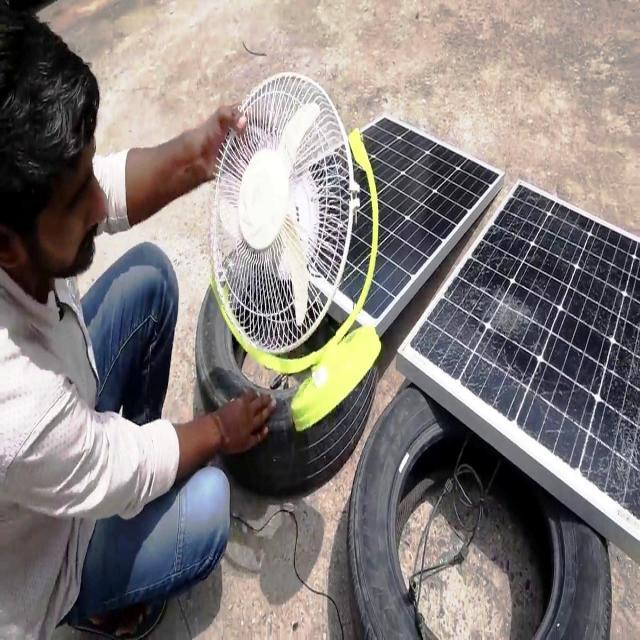faulty: (413, 178, 640, 554)
no faulty: (312, 118, 506, 324)
